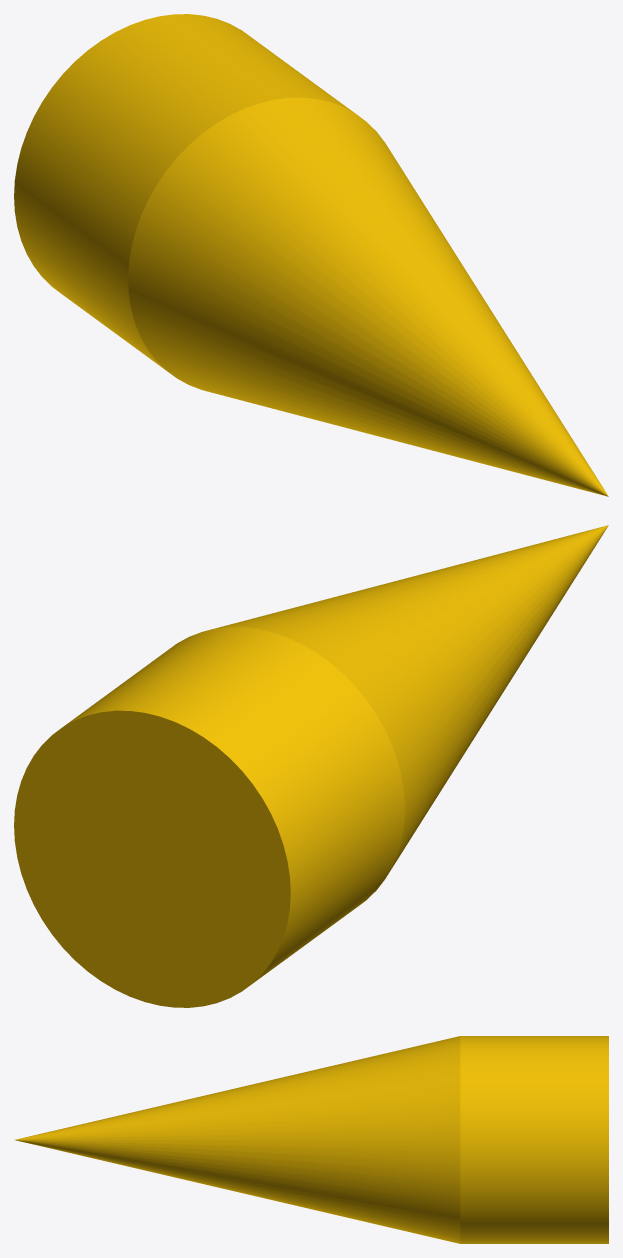
The model's file is pencil.gltf.
3 views of the same model, one above another, from view 1: azimuth 30°, elevation 25°; view 2: azimuth 150°, elevation 25°; view 3: azimuth 270°, elevation 25° (orthographic). The views are drawn at different scales.
Parts seen in each view (by area): view 1: Part 1; view 2: Part 1; view 3: Part 1.
Boxes of the visible parts, box(x1,y1,x2,y2) form: Part 1: box(14, 14, 608, 496); Part 1: box(14, 525, 608, 1007); Part 1: box(15, 1036, 608, 1243).
Bounding box in the file's own units: 0.007 × 0.00699 × 0.02.
